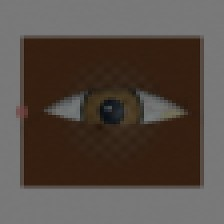pinguecula_lesion: (149, 96, 199, 135)
